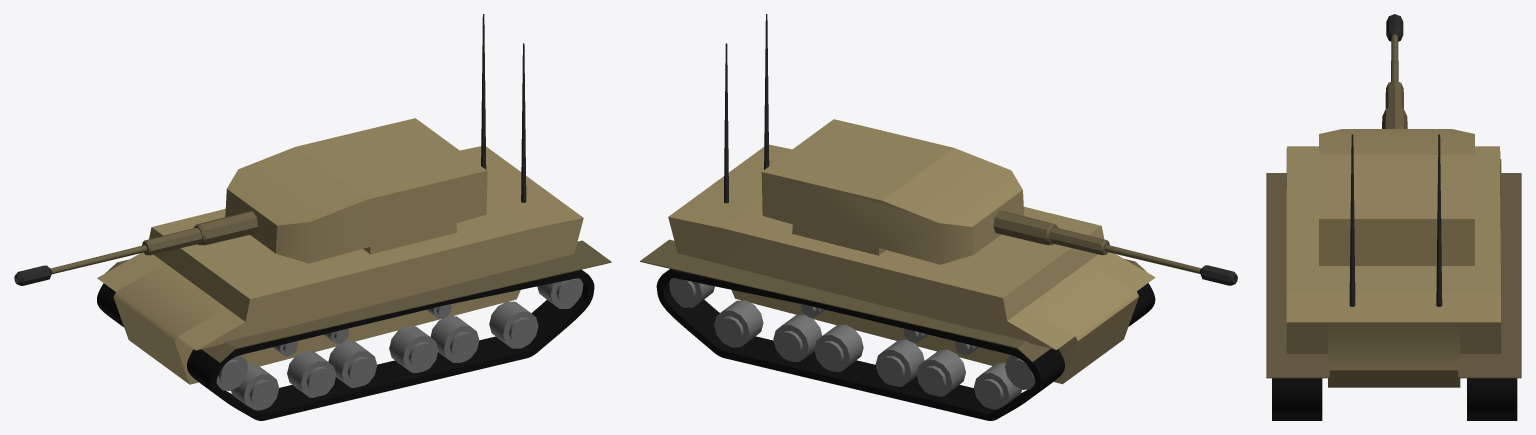
The model's file is tiger.FBX.
3 renders of one model, left to right at view 1: azimuth 30°, elevation 25°; view 2: azimuth 150°, elevation 25°; view 3: azimuth 270°, elevation 25°, orthographic. The views are drawn at different scales.
Visible parts, largest first — view 1: tank tiger; view 2: tank tiger; view 3: tank tiger.
Boxes of the visible parts, x1,y1,x2,y2 form: tank tiger: (14,14,611,420); tank tiger: (640,14,1237,420); tank tiger: (1266,14,1521,420).
Size of the model in its own units: 66558 by 33145 by 25366.
